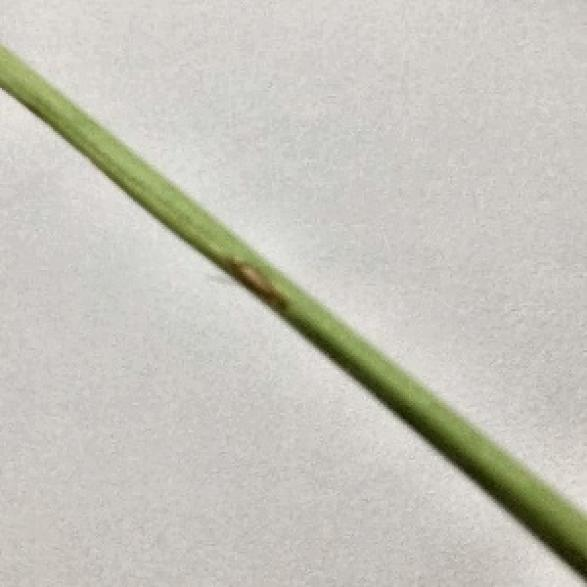Leaf_smut: (206, 252, 294, 334)
